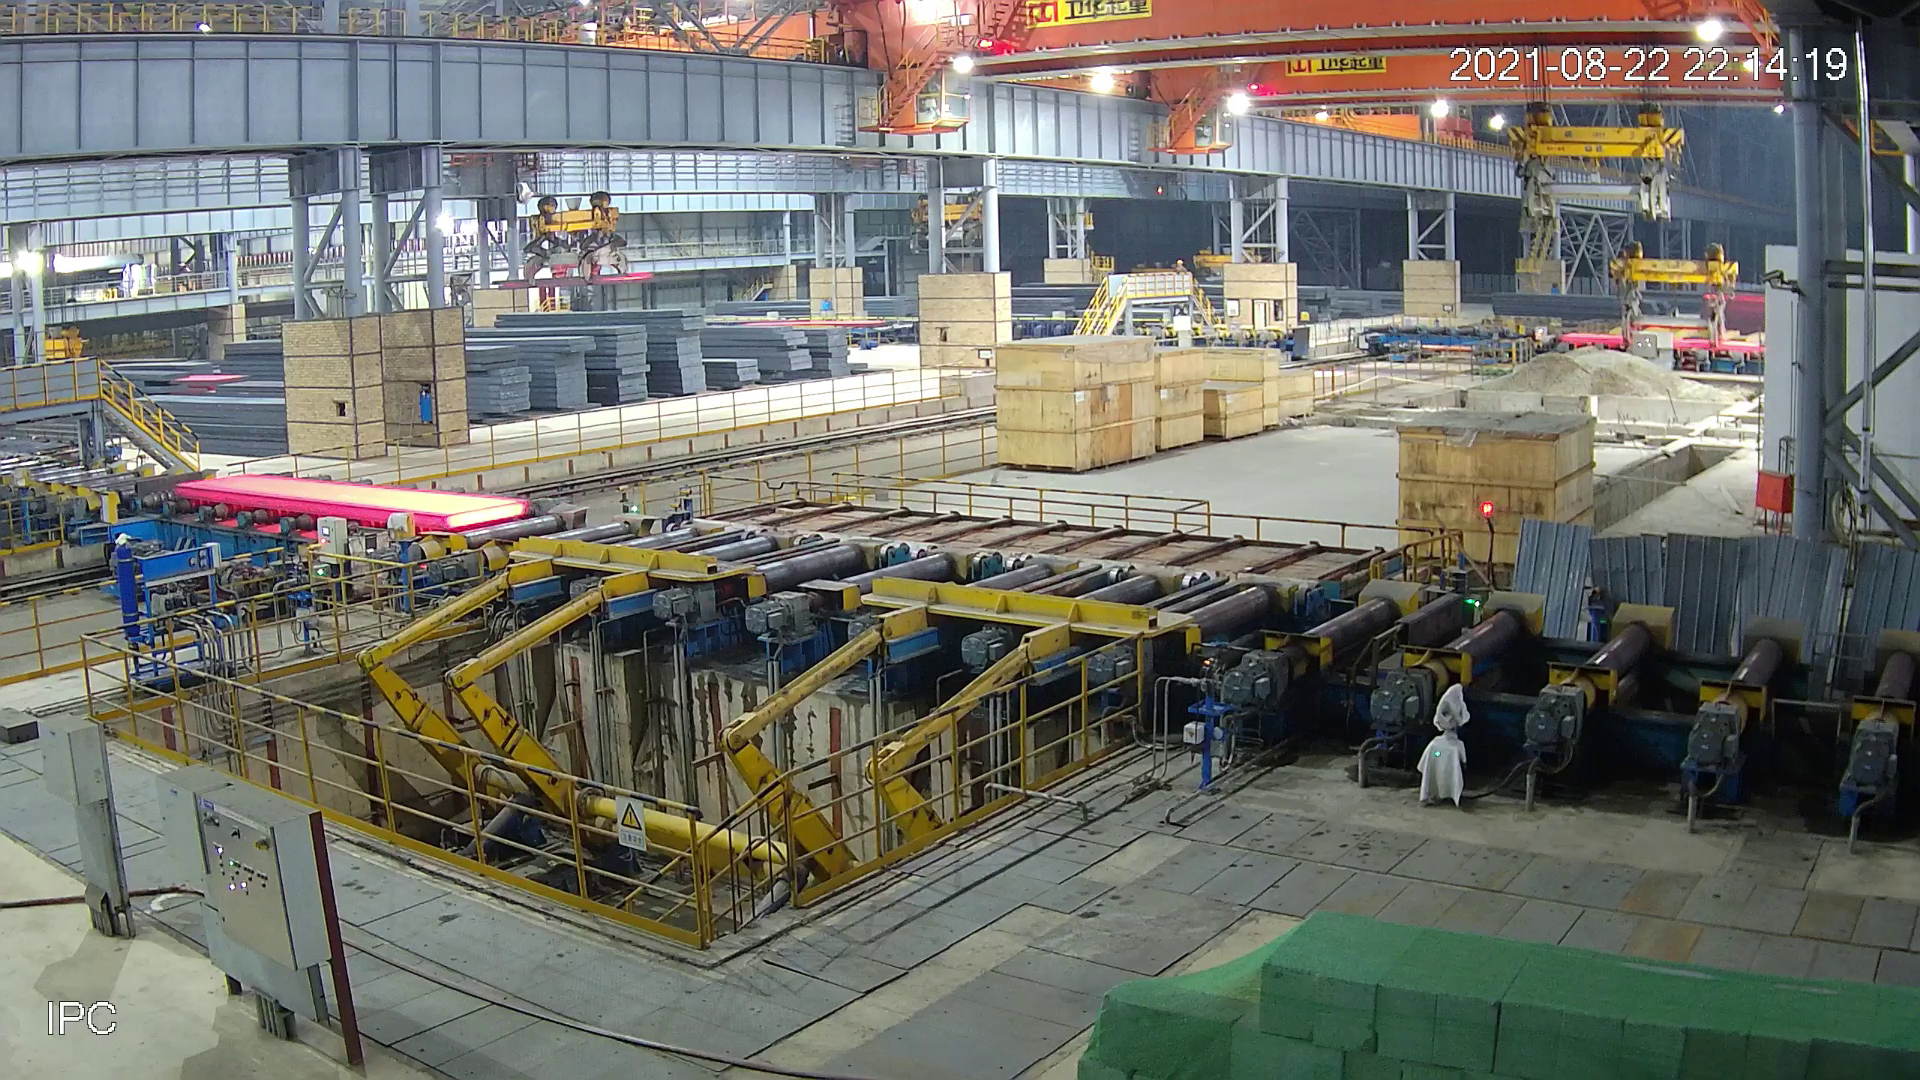slab: (174, 473, 529, 529)
